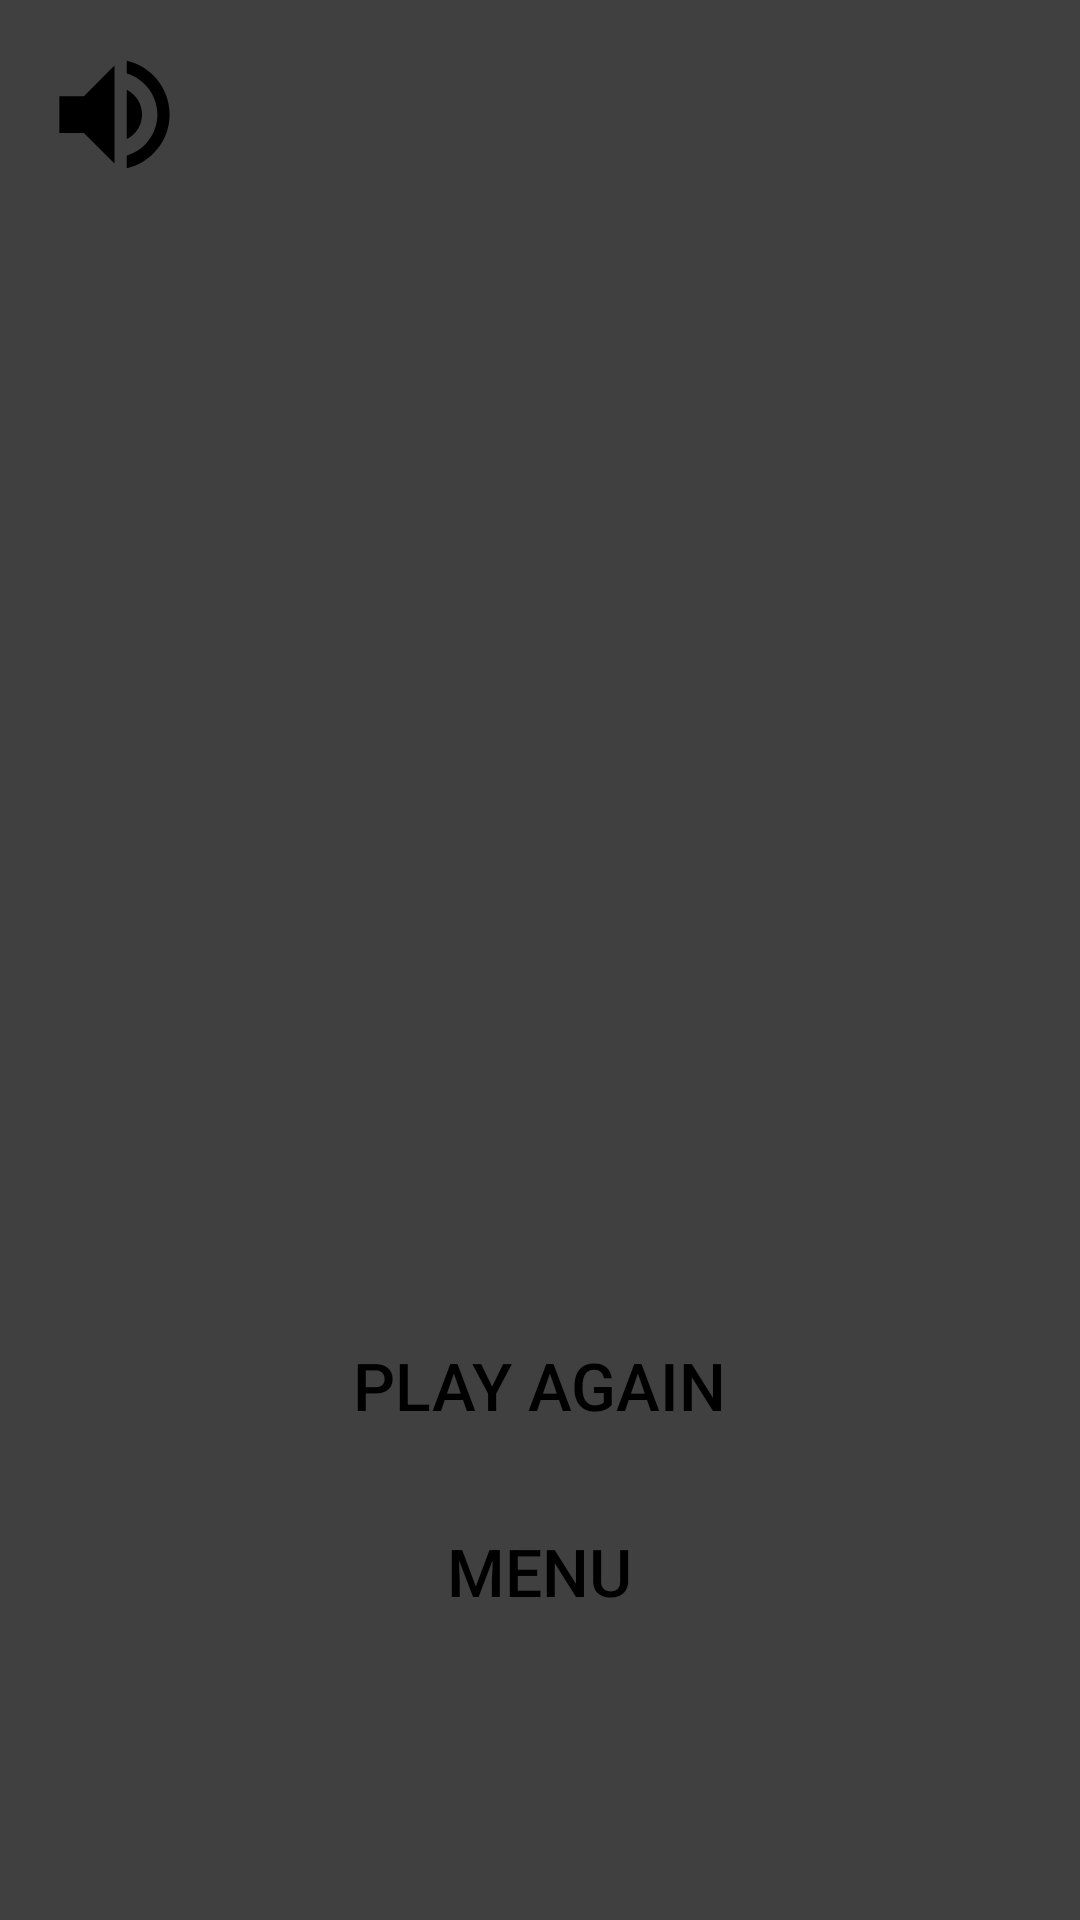

Named icons in this screenshot (1080w x 1920h) and their centers, [x,y]:
volume up: [114,114]
